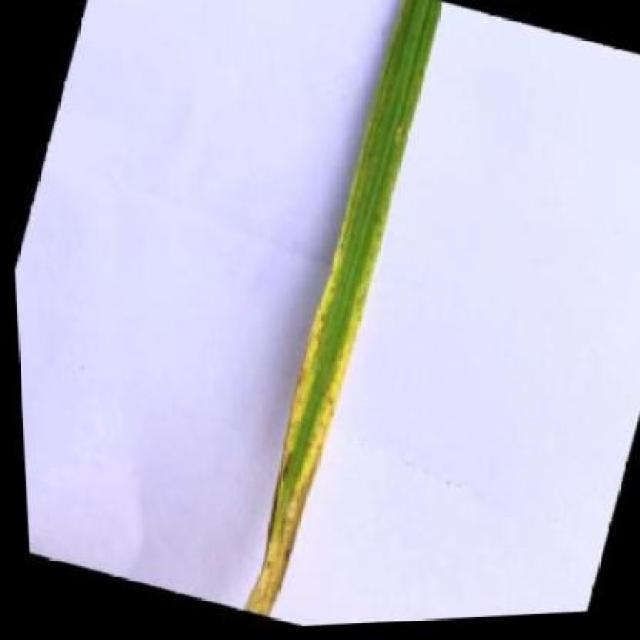Rice False Smut: (205, 0, 472, 625)
